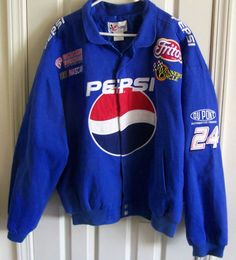pepsi: (88, 84, 155, 155)
